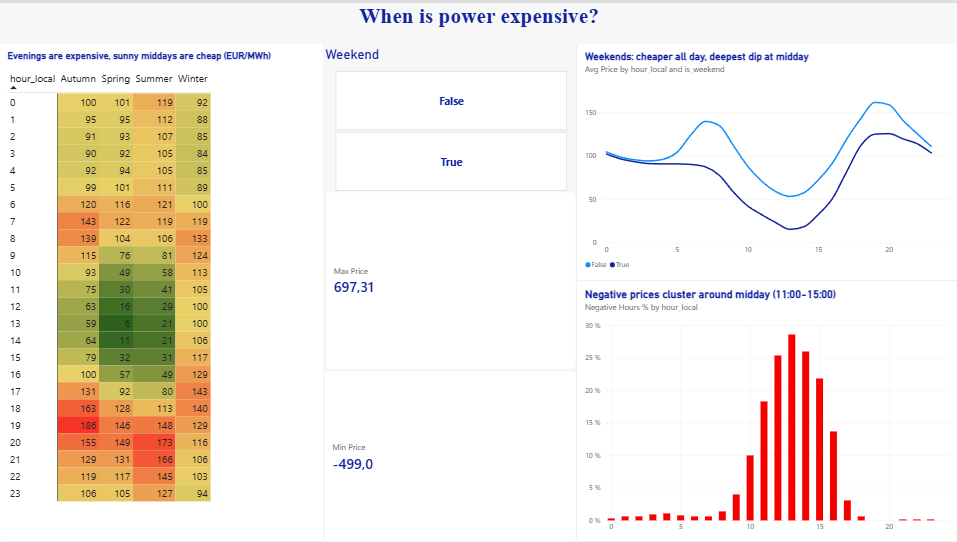

The page's visual inventory and layout, read from the dashboard file:
{"tool":"powerbi","page":{"name":"Expensive hours","canvas":[1920,1080],"ordinal":2},"visuals":[{"type":"pivotTable","title":"Evenings are expensive, sunny middays are cheap (EUR/MWh)","fields":{"Columns":["dim_date.season"],"Rows":["fct_energy_hourly.hour_local"],"Values":["_Measures.Avg Price"]},"box":[0,80,650,1000],"z":0},{"type":"slicer","title":"Weekend","fields":{"Values":["dim_date.is_weekend"]},"box":[652.5,87.5,502.5,290],"z":1000},{"type":"cardVisual","fields":{"Data":["_Measures.Max Price"]},"box":[652.5,377.5,502.5,355],"z":2000},{"type":"cardVisual","fields":{"Data":["_Measures.Min Price"]},"box":[650,735,505,345],"z":3000},{"type":"textbox","box":[0,0,1920,80],"z":4000},{"type":"lineChart","title":"Weekends: cheaper all day, deepest dip at midday","fields":{"Category":["fct_energy_hourly.hour_local"],"Series":["dim_date.is_weekend"],"Y":["_Measures.Avg Price"]},"box":[1155,80,765,475],"z":5000},{"type":"clusteredColumnChart","title":"Negative prices cluster around midday (11:00-15:00)","fields":{"Category":["fct_energy_hourly.hour_local"],"Y":["_Measures.Negative Hours %"]},"box":[1155,555,765,525],"z":6000}]}

Visuals, with their boxes in screenshot pixels (x1, y1, x2, y2), scaled from the page's 1920x1080 canvas onto the 957x542 screenshot:
"Evenings are expensive, sunny middays are cheap (EUR/MWh)" pivotTable: x1=0, y1=40, x2=324, y2=541
"Weekend" slicer: x1=325, y1=44, x2=576, y2=189
cardVisual - _Measures.Max Price: x1=325, y1=189, x2=576, y2=368
cardVisual - _Measures.Min Price: x1=324, y1=369, x2=576, y2=541
textbox: x1=0, y1=0, x2=956, y2=40
"Weekends: cheaper all day, deepest dip at midday" lineChart: x1=576, y1=40, x2=956, y2=279
"Negative prices cluster around midday (11:00-15:00)" clusteredColumnChart: x1=576, y1=279, x2=956, y2=541
